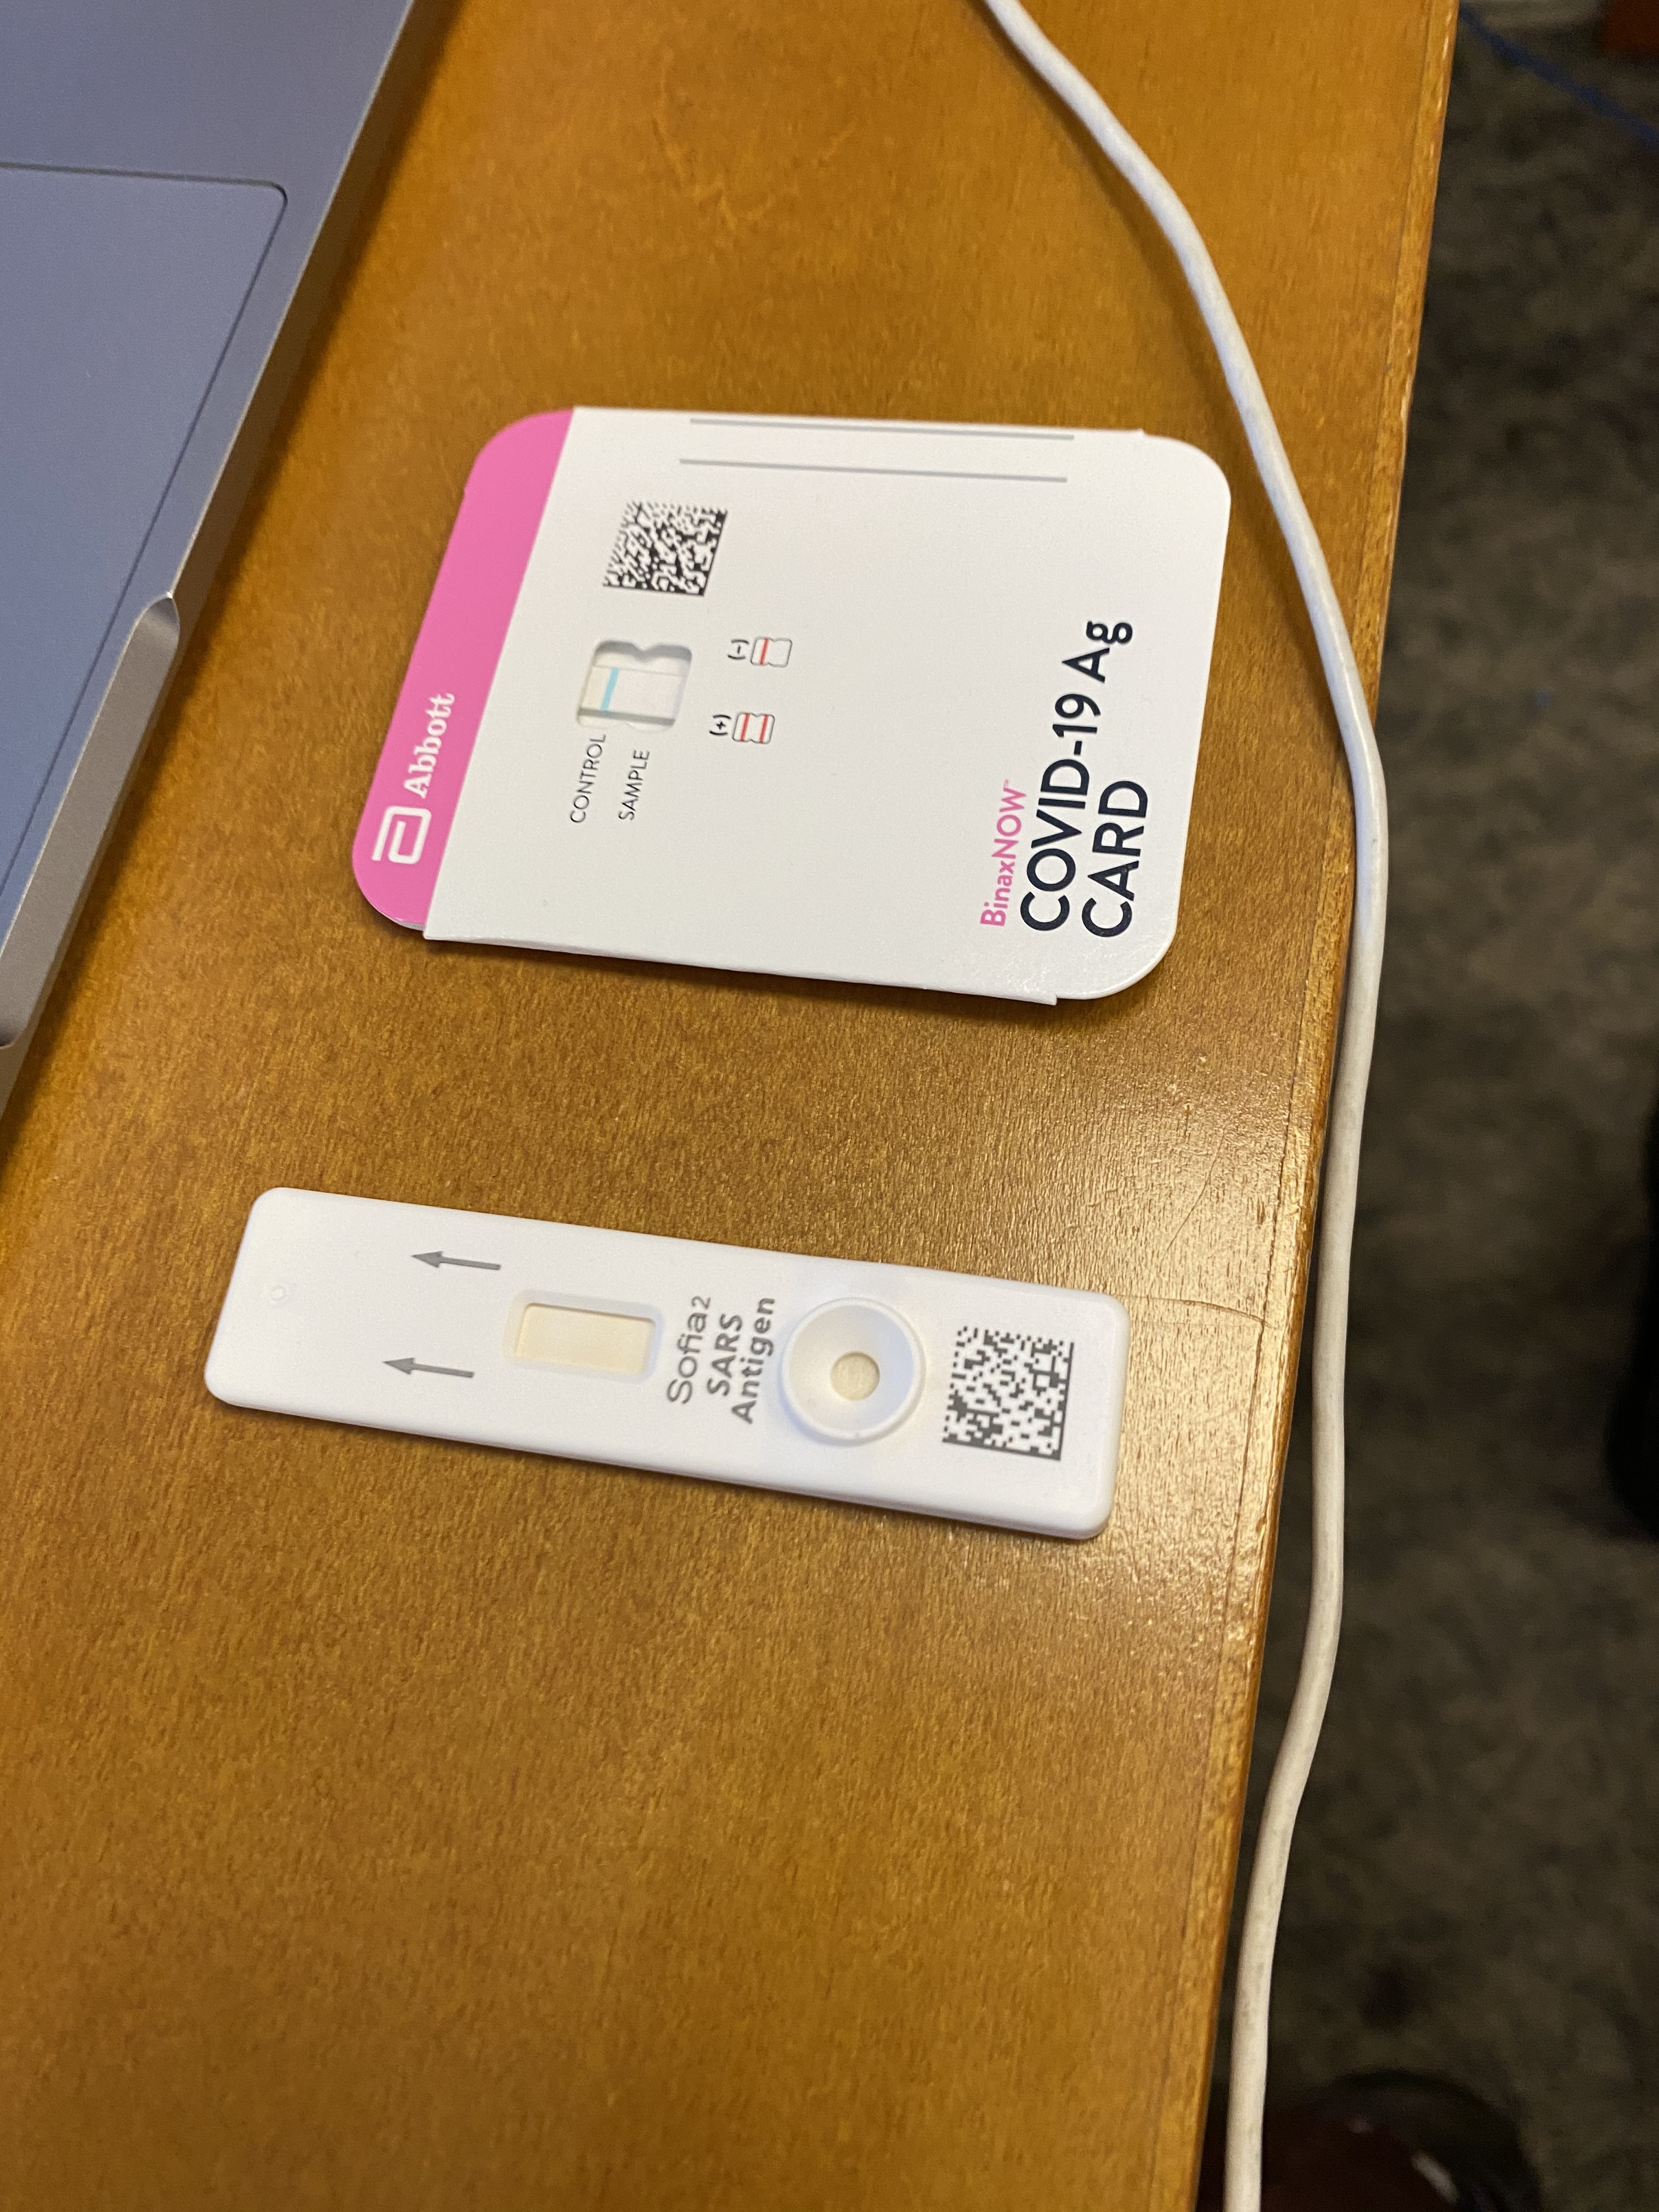binax: (349, 385, 1227, 1014)
quidel: (190, 1179, 1141, 1559)
